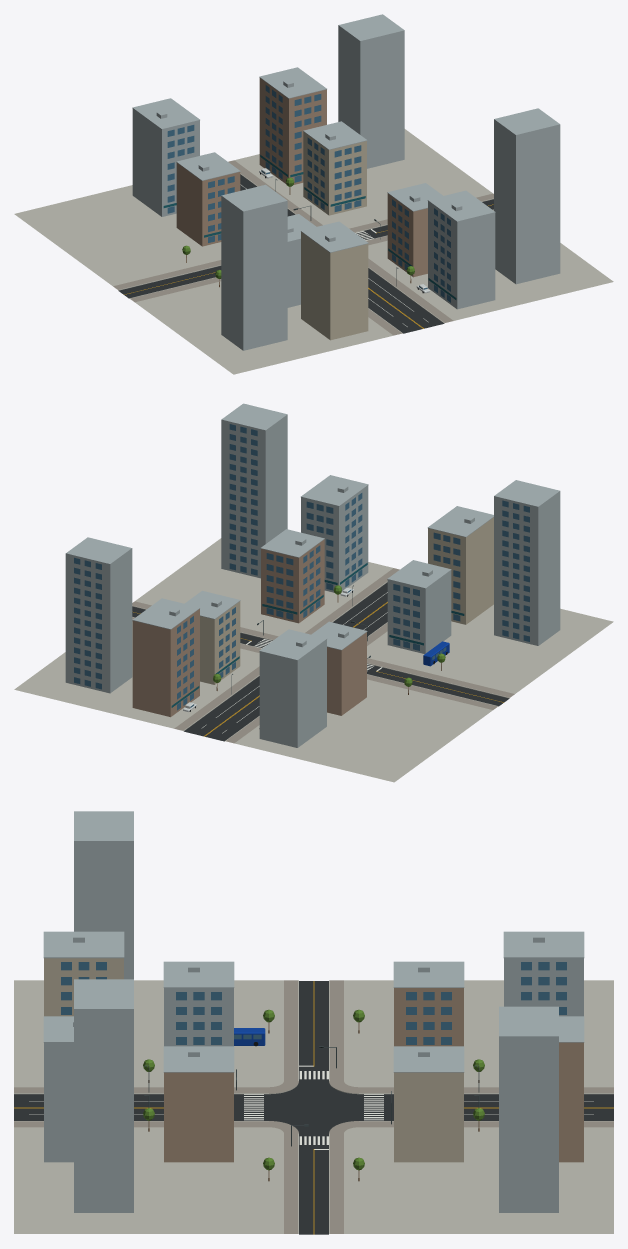
File: SM_BO_Intersection.fbx
3 renders of one model, top to bottom at view 1: azimuth 30°, elevation 25°; view 2: azimuth 150°, elevation 25°; view 3: azimuth 270°, elevation 25°, orthographic. The views are drawn at different scales.
Visible parts, largest first — view 1: Bldg_Apartment_2, Sidewalk_BlockGround_X0_SE, Bldg_Apartment_1, Bldg_Apartment_3, Sidewalk_BlockGround_X0_NE, Bldg_NE_2, Bldg_NW_2, Sidewalk_BlockGround_X0_SW, Bldg_SE_2, Bldg_SW_2, Bldg_SW_1, Sidewalk_BlockGround_X0_NW (+6 smaller); view 2: Sidewalk_BlockGround_X0_SE, Bldg_Apartment_1, Bldg_Apartment_2, Bldg_Apartment_3, Sidewalk_BlockGround_X0_NE, Bldg_SE_2, Bldg_SW_2, Sidewalk_BlockGround_X0_NW, Bldg_NW_2, Bldg_NE_2, Road_X0, Bldg_NE_1 (+6 smaller); view 3: Sidewalk_BlockGround_X0_SW, Sidewalk_BlockGround_X0_NW, Road_X0, Bldg_Apartment_2, Bldg_Apartment_3, Sidewalk_BlockGround_X0_SE, Sidewalk_BlockGround_X0_NE, Sidewalk_X0, Bldg_NW_1, Bldg_SW_1, Bldg_Apartment_1, Bldg_SE_2 (+9 smaller).
Boxes of the visible parts, bbox=[...] form: Bldg_Apartment_2: bbox=[494, 108, 560, 284]; Sidewalk_BlockGround_X0_SE: bbox=[14, 185, 221, 285]; Bldg_Apartment_1: bbox=[221, 184, 287, 350]; Bldg_Apartment_3: bbox=[338, 14, 404, 168]; Sidewalk_BlockGround_X0_NE: bbox=[135, 281, 392, 374]; Bldg_NE_2: bbox=[301, 221, 368, 340]; Bldg_NW_2: bbox=[427, 190, 495, 309]; Sidewalk_BlockGround_X0_SW: bbox=[234, 129, 492, 228]; Bldg_SE_2: bbox=[132, 98, 199, 216]; Bldg_SW_2: bbox=[259, 67, 326, 184]; Bldg_SW_1: bbox=[303, 121, 367, 215]; Sidewalk_BlockGround_X0_NW: bbox=[368, 240, 613, 320]; Sidewalk_BlockGround_X0_SE: bbox=[234, 679, 492, 782]; Bldg_Apartment_1: bbox=[494, 480, 560, 645]; Bldg_Apartment_2: bbox=[221, 403, 287, 578]; Bldg_Apartment_3: bbox=[65, 537, 132, 693]; Sidewalk_BlockGround_X0_NE: bbox=[367, 604, 613, 693]; Bldg_SE_2: bbox=[259, 629, 326, 747]; Bldg_SW_2: bbox=[132, 598, 199, 717]; Sidewalk_BlockGround_X0_NW: bbox=[135, 538, 392, 636]; Bldg_NW_2: bbox=[301, 475, 368, 592]; Bldg_NE_2: bbox=[427, 506, 493, 624]; Road_X0: bbox=[132, 582, 509, 741]; Bldg_NE_1: bbox=[387, 560, 451, 653]; Sidewalk_BlockGround_X0_SW: bbox=[344, 1127, 613, 1233]; Sidewalk_BlockGround_X0_NW: bbox=[14, 1127, 283, 1233]; Road_X0: bbox=[14, 981, 613, 1234]; Bldg_Apartment_2: bbox=[74, 979, 133, 1212]; Bldg_Apartment_3: bbox=[499, 1006, 558, 1212]; Sidewalk_BlockGround_X0_SE: bbox=[344, 980, 613, 1087]; Sidewalk_BlockGround_X0_NE: bbox=[14, 980, 283, 1087]; Sidewalk_X0: bbox=[14, 980, 613, 1233]; Bldg_NW_1: bbox=[163, 1046, 234, 1162]; Bldg_SW_1: bbox=[393, 1046, 464, 1162]; Bldg_Apartment_1: bbox=[74, 811, 133, 979]; Bldg_SE_2: bbox=[503, 931, 584, 1016].
Size of the model in its own units: 120 by 45.15 by 120.
